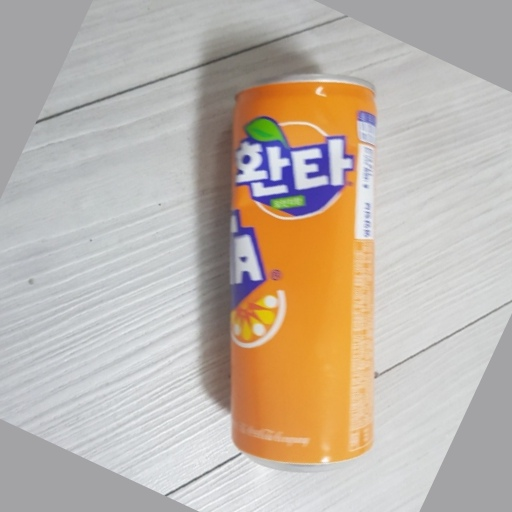Metal_0: (222, 70, 383, 468)
